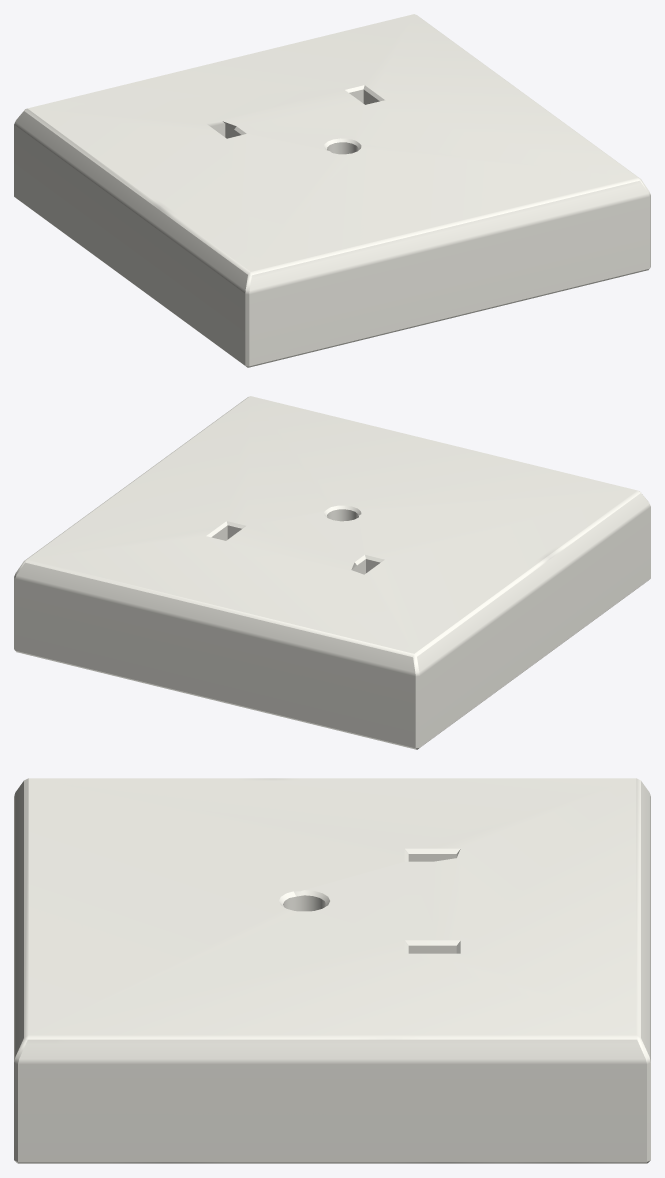
File: concent_sita.fbx
3 renders of one model, top to bottom at view 1: azimuth 30°, elevation 25°; view 2: azimuth 150°, elevation 25°; view 3: azimuth 270°, elevation 25°, orthographic. The views are drawn at different scales.
Parts seen in each view (by area): view 1: polySurface6; view 2: polySurface6; view 3: polySurface6.
Part boxes in pixels (box(x1,y1,x2,y2)): polySurface6: box(14, 14, 650, 367); polySurface6: box(14, 396, 650, 749); polySurface6: box(14, 778, 650, 1163).
Bounding box in the file's own units: 0.5 × 0.1125 × 0.5.
1 material, 1 textured.
